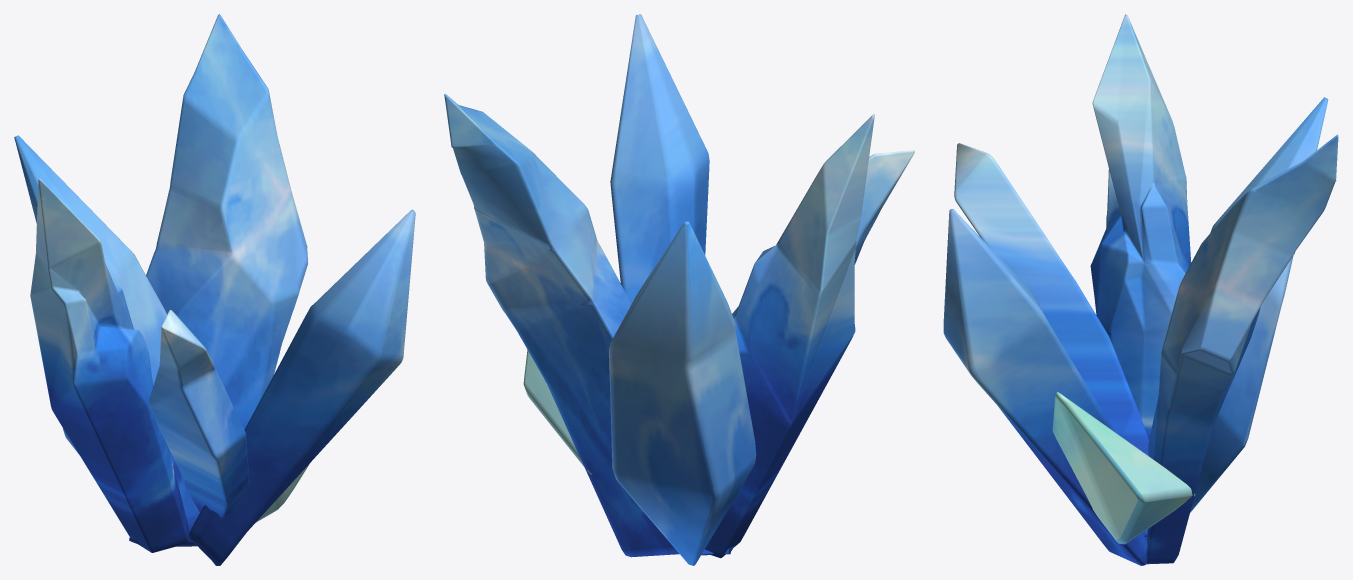
Rendered from shuijing_3.fbx.
The picture shows the model from 3 angles, left to right: view 1: azimuth 30°, elevation 25°; view 2: azimuth 150°, elevation 25°; view 3: azimuth 270°, elevation 25°; orthographic projection. The views are drawn at different scales.
Parts seen in each view (by area): view 1: shuijing:Object136; view 2: shuijing:Object136; view 3: shuijing:Object136.
Boxes of the visible parts, x1,y1,x2,y2 form: shuijing:Object136: (14, 14, 415, 565); shuijing:Object136: (444, 14, 914, 565); shuijing:Object136: (943, 14, 1338, 565).
Size of the model in its own units: 182 by 240 by 181.
